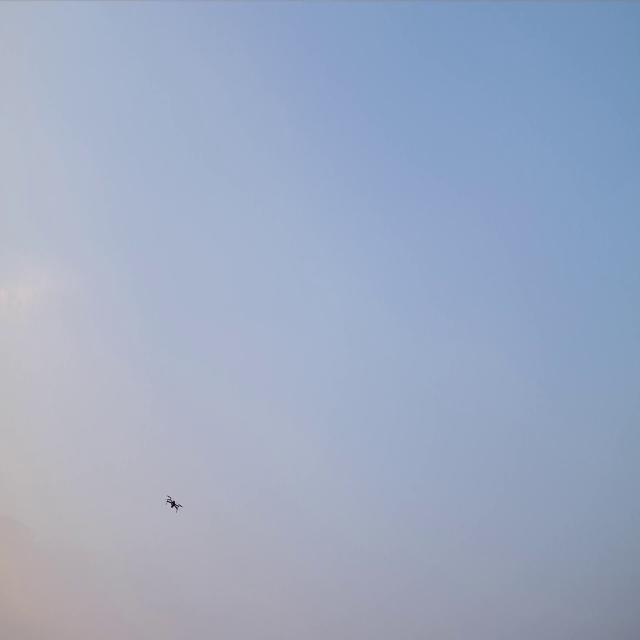UAV: (162, 494, 184, 514)
